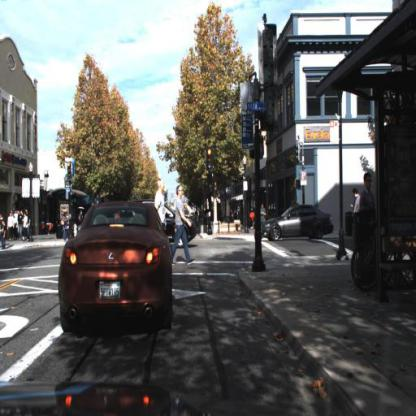car: (56, 200, 174, 336), (257, 203, 338, 246), (150, 200, 199, 248)
pedestrian: (169, 183, 196, 263), (152, 177, 169, 222), (258, 203, 268, 239), (349, 187, 363, 211), (351, 187, 361, 215), (1, 220, 9, 251), (21, 210, 28, 245), (258, 203, 267, 229), (17, 211, 25, 239), (5, 213, 13, 238), (28, 207, 34, 239), (19, 211, 25, 242)
trafficLight-Red: (206, 145, 214, 169), (67, 160, 73, 176)
